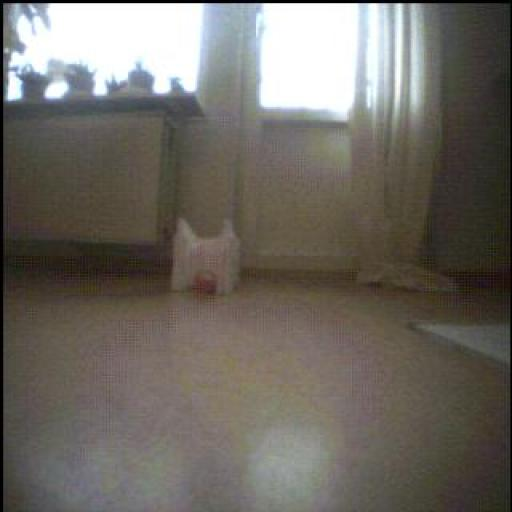Basket: (195, 272, 219, 296)
